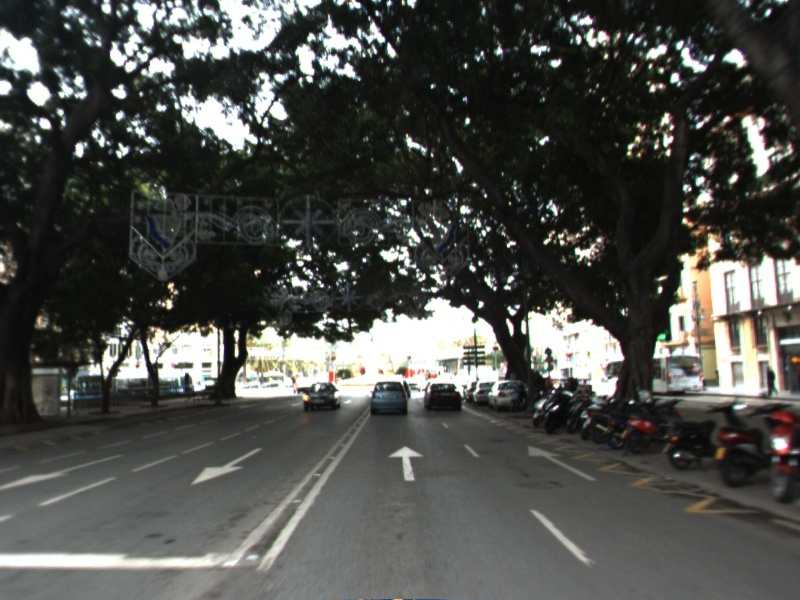STRAIGHT: (526, 443, 599, 483), (385, 443, 427, 483)
